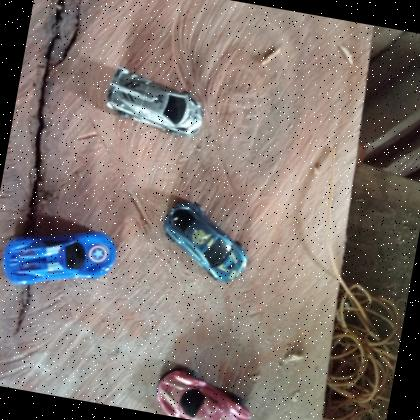Car: (0, 213, 123, 302), (153, 196, 258, 287), (100, 62, 212, 141)
